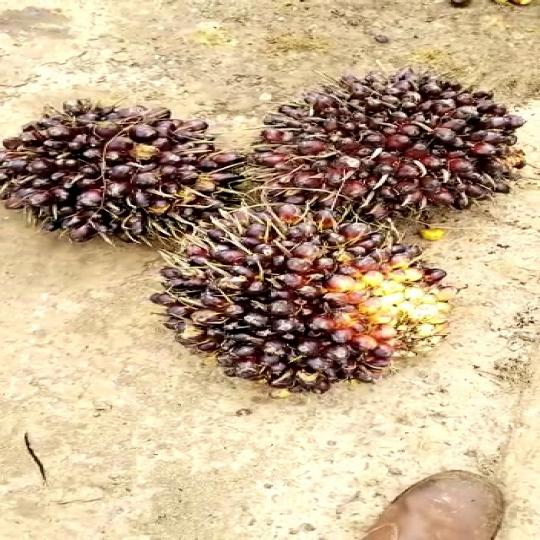mentah: (150, 187, 455, 399), (240, 66, 540, 232), (10, 90, 232, 247)
